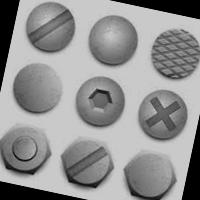hexagonal: (117, 145, 181, 200)
